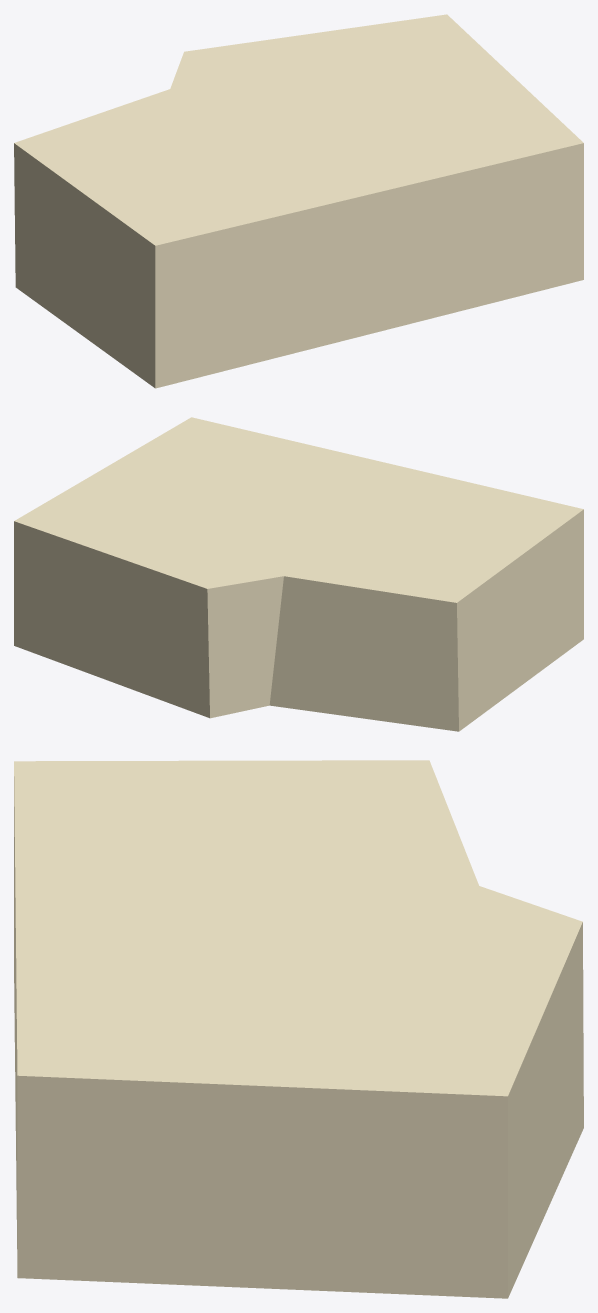
File: Destroy_Plate_4.fbx
The picture shows the model from 3 angles, top to bottom: view 1: azimuth 30°, elevation 25°; view 2: azimuth 150°, elevation 25°; view 3: azimuth 270°, elevation 25°; orthographic projection. The views are drawn at different scales.
Visible parts, largest first — view 1: Destroy_Plate_4; view 2: Destroy_Plate_4; view 3: Destroy_Plate_4.
Part boxes in pixels (x1=…): Destroy_Plate_4: x1=14, y1=14, x2=583, y2=388; Destroy_Plate_4: x1=14, y1=417, x2=583, y2=731; Destroy_Plate_4: x1=14, y1=760, x2=583, y2=1298.
Bounding box in the file's own units: 297 × 88.27 × 216.
